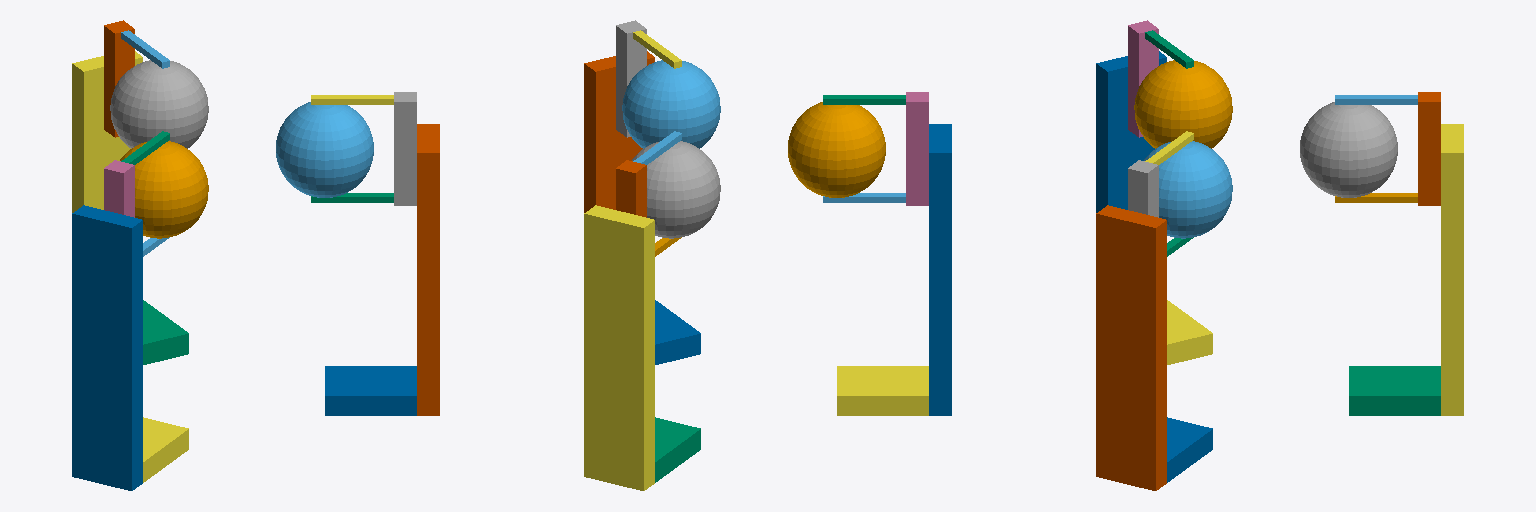
robot.urdf — triroller:
<?xml version="0.0" ?>
<robot name="triroller">
	<link name="base_link">
		<inertial>
			<origin rpy="0.00000 -0.00000 0.00000" xyz="0.00000 0.00000 0.00000"/>
			<mass value="5.02655"/>
			<inertia ixx="0.05094" ixy="0" ixz="0" iyy="0.05094" iyz="0" izz="0.10053"/>
		</inertial>
	</link>
	<link name="link0_2">
		<inertial>
			<origin rpy="0.00000 -0.00000 0.00000" xyz="0.00000 0.00000 0.00000"/>
			<mass value="0.00000"/>
			<inertia ixx="0.00000" ixy="0" ixz="0" iyy="0.00000" iyz="0" izz="0.00000"/>
		</inertial>
	</link>
	<link name="l1_front">
		<inertial>
			<origin rpy="0.00000 -0.00000 0.00000" xyz="0.00000 0.00000 0.00000"/>
			<mass value="0.01200"/>
			<inertia ixx="0.00000" ixy="0" ixz="0" iyy="0.00000" iyz="0" izz="0.00000"/>
		</inertial>
		<collision>
			<origin rpy="0.00000 -0.00000 0.00000" xyz="0.00000 0.00000 0.00000"/>
			<geometry>
				<box size="0.04000 0.03000 0.01000"/>
			</geometry>
		</collision>
		<visual>
			<origin rpy="0.00000 -0.00000 0.00000" xyz="0.00000 0.00000 0.00000"/>
			<geometry>
				<box size="0.04000 0.03000 0.01000"/>
			</geometry>
		</visual>
	</link>
	<link name="l11_front">
		<inertial>
			<origin rpy="0.00000 -0.00000 0.00000" xyz="0.00000 0.00000 0.00000"/>
			<mass value="0.03795"/>
			<inertia ixx="0.00005" ixy="0" ixz="0" iyy="0.00005" iyz="0" izz="0.00000"/>
		</inertial>
		<collision>
			<origin rpy="0.00000 -0.00000 0.00000" xyz="0.00000 0.00000 0.00000"/>
			<geometry>
				<box size="0.01000 0.03000 0.12650"/>
			</geometry>
		</collision>
		<visual>
			<origin rpy="0.00000 -0.00000 0.00000" xyz="0.00000 0.00000 0.00000"/>
			<geometry>
				<box size="0.01000 0.03000 0.12650"/>
			</geometry>
		</visual>
	</link>
	<link name="link0_5">
		<inertial>
			<origin rpy="0.00000 -0.00000 0.00000" xyz="0.00000 0.00000 0.00000"/>
			<mass value="0.00000"/>
			<inertia ixx="0.00000" ixy="0" ixz="0" iyy="0.00000" iyz="0" izz="0.00000"/>
		</inertial>
	</link>
	<link name="l2_front">
		<inertial>
			<origin rpy="0.00000 -0.00000 0.00000" xyz="0.00000 0.00000 0.00000"/>
			<mass value="0.00500"/>
			<inertia ixx="0.00000" ixy="0" ixz="0" iyy="0.00000" iyz="0" izz="0.00000"/>
		</inertial>
		<collision>
			<origin rpy="0.00000 -0.00000 0.00000" xyz="0.00000 0.00000 0.00000"/>
			<geometry>
				<box size="0.01000 0.01000 0.05000"/>
			</geometry>
		</collision>
		<visual>
			<origin rpy="0.00000 -0.00000 0.00000" xyz="0.00000 0.00000 0.00000"/>
			<geometry>
				<box size="0.01000 0.01000 0.05000"/>
			</geometry>
		</visual>
	</link>
	<link name="link0_7">
		<inertial>
			<origin rpy="0.00000 -0.00000 0.00000" xyz="0.00000 0.00000 0.00000"/>
			<mass value="0.00000"/>
			<inertia ixx="0.00000" ixy="0" ixz="0" iyy="0.00000" iyz="0" izz="0.00000"/>
		</inertial>
	</link>
	<link name="l3_front">
		<inertial>
			<origin rpy="0.00000 -0.00000 0.00000" xyz="0.00000 0.00000 0.00000"/>
			<mass value="0.04163"/>
			<inertia ixx="0.00001" ixy="0" ixz="0" iyy="0.00001" iyz="0" izz="0.00001"/>
		</inertial>
		<collision>
			<origin rpy="0.00000 -0.00000 0.00000" xyz="0.00000 0.00000 0.00000"/>
			<geometry>
				<sphere radius="0.02150"/>
			</geometry>
		</collision>
		<visual>
			<origin rpy="0.00000 -0.00000 0.00000" xyz="0.00000 0.00000 0.00000"/>
			<geometry>
				<sphere radius="0.02150"/>
			</geometry>
		</visual>
	</link>
	<link name="l31_front">
		<inertial>
			<origin rpy="0.00000 -0.00000 0.00000" xyz="0.00000 0.00000 0.00000"/>
			<mass value="0.00043"/>
			<inertia ixx="0.00000" ixy="0" ixz="0" iyy="0.00000" iyz="0" izz="0.00000"/>
		</inertial>
		<collision>
			<origin rpy="0.00000 -0.00000 0.00000" xyz="0.00000 0.00000 0.00000"/>
			<geometry>
				<box size="0.03600 0.00400 0.00300"/>
			</geometry>
		</collision>
		<visual>
			<origin rpy="0.00000 -0.00000 0.00000" xyz="0.00000 0.00000 0.00000"/>
			<geometry>
				<box size="0.03600 0.00400 0.00300"/>
			</geometry>
		</visual>
	</link>
	<link name="l32_front">
		<inertial>
			<origin rpy="0.00000 -0.00000 0.00000" xyz="0.00000 0.00000 0.00000"/>
			<mass value="0.00043"/>
			<inertia ixx="0.00000" ixy="0" ixz="0" iyy="0.00000" iyz="0" izz="0.00000"/>
		</inertial>
		<collision>
			<origin rpy="0.00000 -0.00000 0.00000" xyz="0.00000 0.00000 0.00000"/>
			<geometry>
				<box size="0.03600 0.00400 0.00300"/>
			</geometry>
		</collision>
		<visual>
			<origin rpy="0.00000 -0.00000 0.00000" xyz="0.00000 0.00000 0.00000"/>
			<geometry>
				<box size="0.03600 0.00400 0.00300"/>
			</geometry>
		</visual>
	</link>
	<link name="link0_11">
		<inertial>
			<origin rpy="0.00000 -0.00000 0.00000" xyz="0.00000 0.00000 0.00000"/>
			<mass value="0.00000"/>
			<inertia ixx="0.00000" ixy="0" ixz="0" iyy="0.00000" iyz="0" izz="0.00000"/>
		</inertial>
	</link>
	<link name="l1_left">
		<inertial>
			<origin rpy="0.00000 -0.00000 0.00000" xyz="0.00000 0.00000 0.00000"/>
			<mass value="0.01200"/>
			<inertia ixx="0.00000" ixy="0" ixz="0" iyy="0.00000" iyz="0" izz="0.00000"/>
		</inertial>
		<collision>
			<origin rpy="0.00000 -0.00000 0.00000" xyz="0.00000 0.00000 0.00000"/>
			<geometry>
				<box size="0.04000 0.03000 0.01000"/>
			</geometry>
		</collision>
		<visual>
			<origin rpy="0.00000 -0.00000 0.00000" xyz="0.00000 0.00000 0.00000"/>
			<geometry>
				<box size="0.04000 0.03000 0.01000"/>
			</geometry>
		</visual>
	</link>
	<link name="l11_left">
		<inertial>
			<origin rpy="0.00000 -0.00000 0.00000" xyz="0.00000 0.00000 0.00000"/>
			<mass value="0.03795"/>
			<inertia ixx="0.00005" ixy="0" ixz="0" iyy="0.00005" iyz="0" izz="0.00000"/>
		</inertial>
		<collision>
			<origin rpy="0.00000 -0.00000 0.00000" xyz="0.00000 0.00000 0.00000"/>
			<geometry>
				<box size="0.01000 0.03000 0.12650"/>
			</geometry>
		</collision>
		<visual>
			<origin rpy="0.00000 -0.00000 0.00000" xyz="0.00000 0.00000 0.00000"/>
			<geometry>
				<box size="0.01000 0.03000 0.12650"/>
			</geometry>
		</visual>
	</link>
	<link name="link0_14">
		<inertial>
			<origin rpy="0.00000 -0.00000 0.00000" xyz="0.00000 0.00000 0.00000"/>
			<mass value="0.00000"/>
			<inertia ixx="0.00000" ixy="0" ixz="0" iyy="0.00000" iyz="0" izz="0.00000"/>
		</inertial>
	</link>
	<link name="l2_left">
		<inertial>
			<origin rpy="0.00000 -0.00000 0.00000" xyz="0.00000 0.00000 0.00000"/>
			<mass value="0.00500"/>
			<inertia ixx="0.00000" ixy="0" ixz="0" iyy="0.00000" iyz="0" izz="0.00000"/>
		</inertial>
		<collision>
			<origin rpy="0.00000 -0.00000 0.00000" xyz="0.00000 0.00000 0.00000"/>
			<geometry>
				<box size="0.01000 0.01000 0.05000"/>
			</geometry>
		</collision>
		<visual>
			<origin rpy="0.00000 -0.00000 0.00000" xyz="0.00000 0.00000 0.00000"/>
			<geometry>
				<box size="0.01000 0.01000 0.05000"/>
			</geometry>
		</visual>
	</link>
	<link name="link0_16">
		<inertial>
			<origin rpy="0.00000 -0.00000 0.00000" xyz="0.00000 0.00000 0.00000"/>
			<mass value="0.00000"/>
			<inertia ixx="0.00000" ixy="0" ixz="0" iyy="0.00000" iyz="0" izz="0.00000"/>
		</inertial>
	</link>
	<link name="l3_left">
		<inertial>
			<origin rpy="0.00000 -0.00000 0.00000" xyz="0.00000 0.00000 0.00000"/>
			<mass value="0.04163"/>
			<inertia ixx="0.00001" ixy="0" ixz="0" iyy="0.00001" iyz="0" izz="0.00001"/>
		</inertial>
		<collision>
			<origin rpy="0.00000 -0.00000 0.00000" xyz="0.00000 0.00000 0.00000"/>
			<geometry>
				<sphere radius="0.02150"/>
			</geometry>
		</collision>
		<visual>
			<origin rpy="0.00000 -0.00000 0.00000" xyz="0.00000 0.00000 0.00000"/>
			<geometry>
				<sphere radius="0.02150"/>
			</geometry>
		</visual>
	</link>
	<link name="l31_left">
		<inertial>
			<origin rpy="0.00000 -0.00000 0.00000" xyz="0.00000 0.00000 0.00000"/>
			<mass value="0.00043"/>
			<inertia ixx="0.00000" ixy="0" ixz="0" iyy="0.00000" iyz="0" izz="0.00000"/>
		</inertial>
		<collision>
			<origin rpy="0.00000 -0.00000 0.00000" xyz="0.00000 0.00000 0.00000"/>
			<geometry>
				<box size="0.03600 0.00400 0.00300"/>
			</geometry>
		</collision>
		<visual>
			<origin rpy="0.00000 -0.00000 0.00000" xyz="0.00000 0.00000 0.00000"/>
			<geometry>
				<box size="0.03600 0.00400 0.00300"/>
			</geometry>
		</visual>
	</link>
	<link name="l32_left">
		<inertial>
			<origin rpy="0.00000 -0.00000 0.00000" xyz="0.00000 0.00000 0.00000"/>
			<mass value="0.00043"/>
			<inertia ixx="0.00000" ixy="0" ixz="0" iyy="0.00000" iyz="0" izz="0.00000"/>
		</inertial>
		<collision>
			<origin rpy="0.00000 -0.00000 0.00000" xyz="0.00000 0.00000 0.00000"/>
			<geometry>
				<box size="0.03600 0.00400 0.00300"/>
			</geometry>
		</collision>
		<visual>
			<origin rpy="0.00000 -0.00000 0.00000" xyz="0.00000 0.00000 0.00000"/>
			<geometry>
				<box size="0.03600 0.00400 0.00300"/>
			</geometry>
		</visual>
	</link>
	<link name="link0_20">
		<inertial>
			<origin rpy="0.00000 -0.00000 0.00000" xyz="0.00000 0.00000 0.00000"/>
			<mass value="0.00000"/>
			<inertia ixx="0.00000" ixy="0" ixz="0" iyy="0.00000" iyz="0" izz="0.00000"/>
		</inertial>
	</link>
	<link name="l1_right">
		<inertial>
			<origin rpy="0.00000 -0.00000 0.00000" xyz="0.00000 0.00000 0.00000"/>
			<mass value="0.01200"/>
			<inertia ixx="0.00000" ixy="0" ixz="0" iyy="0.00000" iyz="0" izz="0.00000"/>
		</inertial>
		<collision>
			<origin rpy="0.00000 -0.00000 0.00000" xyz="0.00000 0.00000 0.00000"/>
			<geometry>
				<box size="0.04000 0.03000 0.01000"/>
			</geometry>
		</collision>
		<visual>
			<origin rpy="0.00000 -0.00000 0.00000" xyz="0.00000 0.00000 0.00000"/>
			<geometry>
				<box size="0.04000 0.03000 0.01000"/>
			</geometry>
		</visual>
	</link>
	<link name="l11_right">
		<inertial>
			<origin rpy="0.00000 -0.00000 0.00000" xyz="0.00000 0.00000 0.00000"/>
			<mass value="0.03795"/>
			<inertia ixx="0.00005" ixy="0" ixz="0" iyy="0.00005" iyz="0" izz="0.00000"/>
		</inertial>
		<collision>
			<origin rpy="0.00000 -0.00000 0.00000" xyz="0.00000 0.00000 0.00000"/>
			<geometry>
				<box size="0.01000 0.03000 0.12650"/>
			</geometry>
		</collision>
		<visual>
			<origin rpy="0.00000 -0.00000 0.00000" xyz="0.00000 0.00000 0.00000"/>
			<geometry>
				<box size="0.01000 0.03000 0.12650"/>
			</geometry>
		</visual>
	</link>
	<link name="link0_23">
		<inertial>
			<origin rpy="0.00000 -0.00000 0.00000" xyz="0.00000 0.00000 0.00000"/>
			<mass value="0.00000"/>
			<inertia ixx="0.00000" ixy="0" ixz="0" iyy="0.00000" iyz="0" izz="0.00000"/>
		</inertial>
	</link>
	<link name="l2_right">
		<inertial>
			<origin rpy="0.00000 -0.00000 0.00000" xyz="0.00000 0.00000 0.00000"/>
			<mass value="0.00500"/>
			<inertia ixx="0.00000" ixy="0" ixz="0" iyy="0.00000" iyz="0" izz="0.00000"/>
		</inertial>
		<collision>
			<origin rpy="0.00000 -0.00000 0.00000" xyz="0.00000 0.00000 0.00000"/>
			<geometry>
				<box size="0.01000 0.01000 0.05000"/>
			</geometry>
		</collision>
		<visual>
			<origin rpy="0.00000 -0.00000 0.00000" xyz="0.00000 0.00000 0.00000"/>
			<geometry>
				<box size="0.01000 0.01000 0.05000"/>
			</geometry>
		</visual>
	</link>
	<link name="link0_25">
		<inertial>
			<origin rpy="0.00000 -0.00000 0.00000" xyz="0.00000 0.00000 0.00000"/>
			<mass value="0.00000"/>
			<inertia ixx="0.00000" ixy="0" ixz="0" iyy="0.00000" iyz="0" izz="0.00000"/>
		</inertial>
	</link>
	<link name="l3_right">
		<inertial>
			<origin rpy="0.00000 -0.00000 0.00000" xyz="0.00000 0.00000 0.00000"/>
			<mass value="0.04163"/>
			<inertia ixx="0.00001" ixy="0" ixz="0" iyy="0.00001" iyz="0" izz="0.00001"/>
		</inertial>
		<collision>
			<origin rpy="0.00000 -0.00000 0.00000" xyz="0.00000 0.00000 0.00000"/>
			<geometry>
				<sphere radius="0.02150"/>
			</geometry>
		</collision>
		<visual>
			<origin rpy="0.00000 -0.00000 0.00000" xyz="0.00000 0.00000 0.00000"/>
			<geometry>
				<sphere radius="0.02150"/>
			</geometry>
		</visual>
	</link>
	<link name="l31_right">
		<inertial>
			<origin rpy="0.00000 -0.00000 0.00000" xyz="0.00000 0.00000 0.00000"/>
			<mass value="0.00043"/>
			<inertia ixx="0.00000" ixy="0" ixz="0" iyy="0.00000" iyz="0" izz="0.00000"/>
		</inertial>
		<collision>
			<origin rpy="0.00000 -0.00000 0.00000" xyz="0.00000 0.00000 0.00000"/>
			<geometry>
				<box size="0.03600 0.00400 0.00300"/>
			</geometry>
		</collision>
		<visual>
			<origin rpy="0.00000 -0.00000 0.00000" xyz="0.00000 0.00000 0.00000"/>
			<geometry>
				<box size="0.03600 0.00400 0.00300"/>
			</geometry>
		</visual>
	</link>
	<link name="l32_right">
		<inertial>
			<origin rpy="0.00000 -0.00000 0.00000" xyz="0.00000 0.00000 0.00000"/>
			<mass value="0.00043"/>
			<inertia ixx="0.00000" ixy="0" ixz="0" iyy="0.00000" iyz="0" izz="0.00000"/>
		</inertial>
		<collision>
			<origin rpy="0.00000 -0.00000 0.00000" xyz="0.00000 0.00000 0.00000"/>
			<geometry>
				<box size="0.03600 0.00400 0.00300"/>
			</geometry>
		</collision>
		<visual>
			<origin rpy="0.00000 -0.00000 0.00000" xyz="0.00000 0.00000 0.00000"/>
			<geometry>
				<box size="0.03600 0.00400 0.00300"/>
			</geometry>
		</visual>
	</link>
	<joint name="r1_front" type="revolute">
		<parent link="base_link"/>
		<child link="link0_2"/>
		<dynamics damping="1.0" friction="0.0001"/>
		<origin rpy="0.00000 -0.00000 1.57080" xyz="0.00000 0.04800 0.04500"/>
		<axis xyz="0.00000 1.00000 0.00000"/>
	</joint>
	<joint name="jointfix_5_2" type="fixed">
		<parent link="link0_2"/>
		<child link="l1_front"/>
		<dynamics damping="1.0" friction="0.0001"/>
		<origin rpy="0.00000 -0.00000 0.00000" xyz="0.02000 0.00000 0.00500"/>
		<axis xyz="0.00000 0.00000 0.00000"/>
	</joint>
	<joint name="jointfix_4_1" type="fixed">
		<parent link="l1_front"/>
		<child link="l11_front"/>
		<dynamics damping="1.0" friction="0.0001"/>
		<origin rpy="0.00000 -0.00000 0.00000" xyz="0.02500 0.00000 0.05825"/>
		<axis xyz="0.00000 0.00000 0.00000"/>
	</joint>
	<joint name="r2_front" type="revolute">
		<parent link="l11_front"/>
		<child link="link0_5"/>
		<dynamics damping="1.0" friction="0.0001"/>
		<origin rpy="0.00000 -0.00000 0.00000" xyz="-0.01000 0.00000 0.05825"/>
		<axis xyz="1.00000 0.00000 0.00000"/>
	</joint>
	<joint name="jointfix_3_5" type="fixed">
		<parent link="link0_5"/>
		<child link="l2_front"/>
		<dynamics damping="1.0" friction="0.0001"/>
		<origin rpy="0.00000 -0.00000 0.00000" xyz="0.00000 0.00000 0.00000"/>
		<axis xyz="0.00000 0.00000 0.00000"/>
	</joint>
	<joint name="r3_front" type="revolute">
		<parent link="l2_front"/>
		<child link="link0_7"/>
		<dynamics damping="1.0" friction="0.0001"/>
		<origin rpy="0.00000 -0.00000 0.00000" xyz="-0.03500 0.00000 0.00000"/>
		<axis xyz="0.00000 0.00000 1.00000"/>
	</joint>
	<joint name="jointfix_0_7" type="fixed">
		<parent link="link0_7"/>
		<child link="l3_front"/>
		<dynamics damping="1.0" friction="0.0001"/>
		<origin rpy="0.00000 -0.00000 0.00000" xyz="0.00000 0.00000 0.00000"/>
		<axis xyz="0.00000 0.00000 0.00000"/>
	</joint>
	<joint name="jointfix_1_4" type="fixed">
		<parent link="l2_front"/>
		<child link="l31_front"/>
		<dynamics damping="1.0" friction="0.0001"/>
		<origin rpy="0.00000 -0.00000 0.00000" xyz="-0.02300 0.00000 -0.02350"/>
		<axis xyz="0.00000 0.00000 0.00000"/>
	</joint>
	<joint name="jointfix_2_4" type="fixed">
		<parent link="l2_front"/>
		<child link="l32_front"/>
		<dynamics damping="1.0" friction="0.0001"/>
		<origin rpy="0.00000 -0.00000 0.00000" xyz="-0.02300 0.00000 0.02350"/>
		<axis xyz="0.00000 0.00000 0.00000"/>
	</joint>
	<joint name="r1_left" type="revolute">
		<parent link="base_link"/>
		<child link="link0_11"/>
		<dynamics damping="1.0" friction="0.0001"/>
		<origin rpy="0.00000 -0.00000 -2.61768" xyz="-0.04157 -0.02399 0.04500"/>
		<axis xyz="0.00000 1.00000 0.00000"/>
	</joint>
	<joint name="jointfix_11_11" type="fixed">
		<parent link="link0_11"/>
		<child link="l1_left"/>
		<dynamics damping="1.0" friction="0.0001"/>
		<origin rpy="0.00000 -0.00000 0.00000" xyz="0.02000 0.00000 0.00500"/>
		<axis xyz="0.00000 0.00000 0.00000"/>
	</joint>
	<joint name="jointfix_10_10" type="fixed">
		<parent link="l1_left"/>
		<child link="l11_left"/>
		<dynamics damping="1.0" friction="0.0001"/>
		<origin rpy="0.00000 -0.00000 0.00000" xyz="0.02500 0.00000 0.05825"/>
		<axis xyz="0.00000 0.00000 0.00000"/>
	</joint>
	<joint name="r2_left" type="revolute">
		<parent link="l11_left"/>
		<child link="link0_14"/>
		<dynamics damping="1.0" friction="0.0001"/>
		<origin rpy="0.00000 -0.00000 0.00000" xyz="-0.01000 0.00000 0.05825"/>
		<axis xyz="1.00000 0.00000 0.00000"/>
	</joint>
	<joint name="jointfix_9_14" type="fixed">
		<parent link="link0_14"/>
		<child link="l2_left"/>
		<dynamics damping="1.0" friction="0.0001"/>
		<origin rpy="0.00000 -0.00000 0.00000" xyz="0.00000 0.00000 0.00000"/>
		<axis xyz="0.00000 0.00000 0.00000"/>
	</joint>
	<joint name="r3_left" type="revolute">
		<parent link="l2_left"/>
		<child link="link0_16"/>
		<dynamics damping="1.0" friction="0.0001"/>
		<origin rpy="0.00000 -0.00000 0.00000" xyz="-0.03500 0.00000 0.00000"/>
		<axis xyz="0.00000 0.00000 1.00000"/>
	</joint>
	<joint name="jointfix_6_16" type="fixed">
		<parent link="link0_16"/>
		<child link="l3_left"/>
		<dynamics damping="1.0" friction="0.0001"/>
		<origin rpy="0.00000 -0.00000 0.00000" xyz="0.00000 0.00000 0.00000"/>
		<axis xyz="0.00000 0.00000 0.00000"/>
	</joint>
	<joint name="jointfix_7_13" type="fixed">
		<parent link="l2_left"/>
		<child link="l31_left"/>
		<dynamics damping="1.0" friction="0.0001"/>
		<origin rpy="0.00000 -0.00000 0.00000" xyz="-0.02300 0.00000 -0.02350"/>
		<axis xyz="0.00000 0.00000 0.00000"/>
	</joint>
	<joint name="jointfix_8_13" type="fixed">
		<parent link="l2_left"/>
		<child link="l32_left"/>
		<dynamics damping="1.0" friction="0.0001"/>
		<origin rpy="0.00000 -0.00000 0.00000" xyz="-0.02300 0.00000 0.02350"/>
		<axis xyz="0.00000 0.00000 0.00000"/>
	</joint>
	<joint name="r1_right" type="revolute">
		<parent link="base_link"/>
		<child link="link0_20"/>
		<dynamics damping="1.0" friction="0.0001"/>
		<origin rpy="0.00000 0.00000 -0.52391" xyz="0.04157 -0.02399 0.04500"/>
		<axis xyz="0.00000 1.00000 0.00000"/>
	</joint>
	<joint name="jointfix_17_20" type="fixed">
		<parent link="link0_20"/>
		<child link="l1_right"/>
		<dynamics damping="1.0" friction="0.0001"/>
		<origin rpy="0.00000 -0.00000 0.00000" xyz="0.02000 0.00000 0.00500"/>
		<axis xyz="0.00000 0.00000 0.00000"/>
	</joint>
	<joint name="jointfix_16_19" type="fixed">
		<parent link="l1_right"/>
		<child link="l11_right"/>
		<dynamics damping="1.0" friction="0.0001"/>
		<origin rpy="0.00000 -0.00000 0.00000" xyz="0.02500 0.00000 0.05825"/>
		<axis xyz="0.00000 0.00000 0.00000"/>
	</joint>
	<joint name="r2_right" type="revolute">
		<parent link="l11_right"/>
		<child link="link0_23"/>
		<dynamics damping="1.0" friction="0.0001"/>
		<origin rpy="0.00000 -0.00000 0.00000" xyz="-0.01000 0.00000 0.05825"/>
		<axis xyz="1.00000 0.00000 0.00000"/>
	</joint>
	<joint name="jointfix_15_23" type="fixed">
		<parent link="link0_23"/>
		<child link="l2_right"/>
		<dynamics damping="1.0" friction="0.0001"/>
		<origin rpy="0.00000 -0.00000 0.00000" xyz="0.00000 0.00000 0.00000"/>
		<axis xyz="0.00000 0.00000 0.00000"/>
	</joint>
	<joint name="r3_right" type="revolute">
		<parent link="l2_right"/>
		<child link="link0_25"/>
		<dynamics damping="1.0" friction="0.0001"/>
		<origin rpy="0.00000 -0.00000 0.00000" xyz="-0.03500 0.00000 0.00000"/>
		<axis xyz="0.00000 0.00000 1.00000"/>
	</joint>
	<joint name="jointfix_12_25" type="fixed">
		<parent link="link0_25"/>
		<child link="l3_right"/>
		<dynamics damping="1.0" friction="0.0001"/>
		<origin rpy="0.00000 -0.00000 0.00000" xyz="0.00000 0.00000 0.00000"/>
		<axis xyz="0.00000 0.00000 0.00000"/>
	</joint>
	<joint name="jointfix_13_22" type="fixed">
		<parent link="l2_right"/>
		<child link="l31_right"/>
		<dynamics damping="1.0" friction="0.0001"/>
		<origin rpy="0.00000 -0.00000 0.00000" xyz="-0.02300 0.00000 -0.02350"/>
		<axis xyz="0.00000 0.00000 0.00000"/>
	</joint>
	<joint name="jointfix_14_22" type="fixed">
		<parent link="l2_right"/>
		<child link="l32_right"/>
		<dynamics damping="1.0" friction="0.0001"/>
		<origin rpy="0.00000 -0.00000 0.00000" xyz="-0.02300 0.00000 0.02350"/>
		<axis xyz="0.00000 0.00000 0.00000"/>
	</joint>
</robot>

--- Facts derived from the render (not from the file) ---
Views: 3 orthographic renders of the robot side by side, from view 1: azimuth 30°, elevation 25°; view 2: azimuth 150°, elevation 25°; view 3: azimuth 270°, elevation 25°.
Robot: triroller — 28 links, 27 joints (9 revolute, 18 fixed); root link base_link; default pose: every joint at zero.
Visible links, largest first — view 1: l11_left, l3_right, l11_right, l3_front, l3_left, l11_front, l1_right, l2_right, l1_left, l1_front, l2_front, l2_left (+4 smaller); view 2: l11_front, l3_left, l11_left, l3_right, l3_front, l11_right, l1_left, l2_left, l1_front, l1_right, l2_right, l2_front (+4 smaller); view 3: l11_right, l3_front, l11_front, l3_left, l3_right, l11_left, l1_front, l2_front, l1_right, l1_left, l2_left, l2_right (+4 smaller).
Link boxes in pixels (<box>): l11_left: <box>72,205,142,490</box>; l3_right: <box>276,102,373,197</box>; l11_right: <box>417,124,439,415</box>; l3_front: <box>110,60,208,148</box>; l3_left: <box>120,141,208,238</box>; l11_front: <box>72,51,142,212</box>; l1_right: <box>325,366,416,415</box>; l2_right: <box>394,92,416,205</box>; l1_left: <box>143,417,188,482</box>; l1_front: <box>143,300,188,364</box>; l2_front: <box>104,20,134,137</box>; l2_left: <box>104,160,134,217</box>; l11_front: <box>584,205,654,490</box>; l3_left: <box>788,102,885,197</box>; l11_left: <box>929,124,951,415</box>; l3_right: <box>622,60,720,148</box>; l3_front: <box>632,141,720,238</box>; l11_right: <box>584,51,654,212</box>; l1_left: <box>837,366,928,415</box>; l2_left: <box>906,92,928,205</box>; l1_front: <box>655,417,700,482</box>; l1_right: <box>655,300,700,364</box>; l2_right: <box>616,20,646,137</box>; l2_front: <box>616,160,646,217</box>; l11_right: <box>1096,205,1166,490</box>; l3_front: <box>1300,102,1397,197</box>; l11_front: <box>1441,124,1463,415</box>; l3_left: <box>1134,60,1232,148</box>; l3_right: <box>1144,141,1232,238</box>; l11_left: <box>1096,51,1166,212</box>; l1_front: <box>1349,366,1440,415</box>; l2_front: <box>1418,92,1440,205</box>; l1_right: <box>1167,417,1212,482</box>; l1_left: <box>1167,300,1212,364</box>; l2_left: <box>1128,20,1158,137</box>; l2_right: <box>1128,160,1158,217</box>.
Size in the robot's own frame: 0.1847 by 0.16 by 0.1465 metres.
Geometry: primitives only (box / cylinder / sphere), no mesh files.